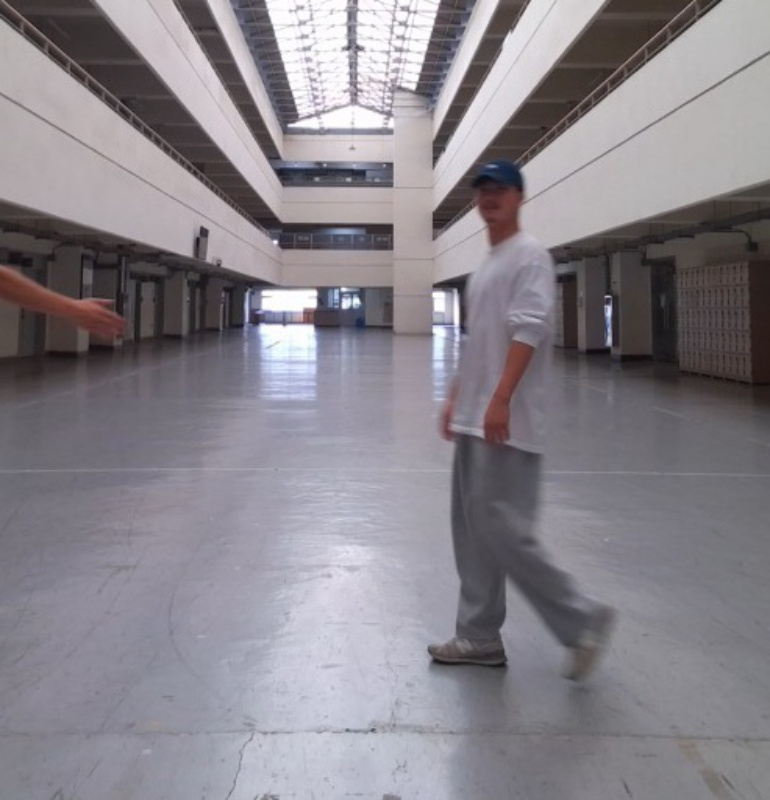person: (425, 158, 617, 683)
